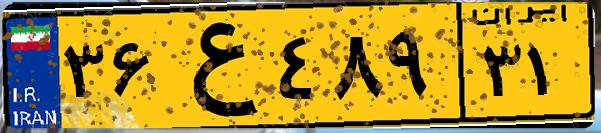1: (525, 38, 570, 115)
3: (57, 26, 110, 100), (475, 38, 525, 113)
4: (270, 28, 330, 110)
6: (110, 28, 158, 98)
8: (330, 28, 385, 110)
9: (385, 28, 445, 110)
ع: (158, 12, 270, 120)
